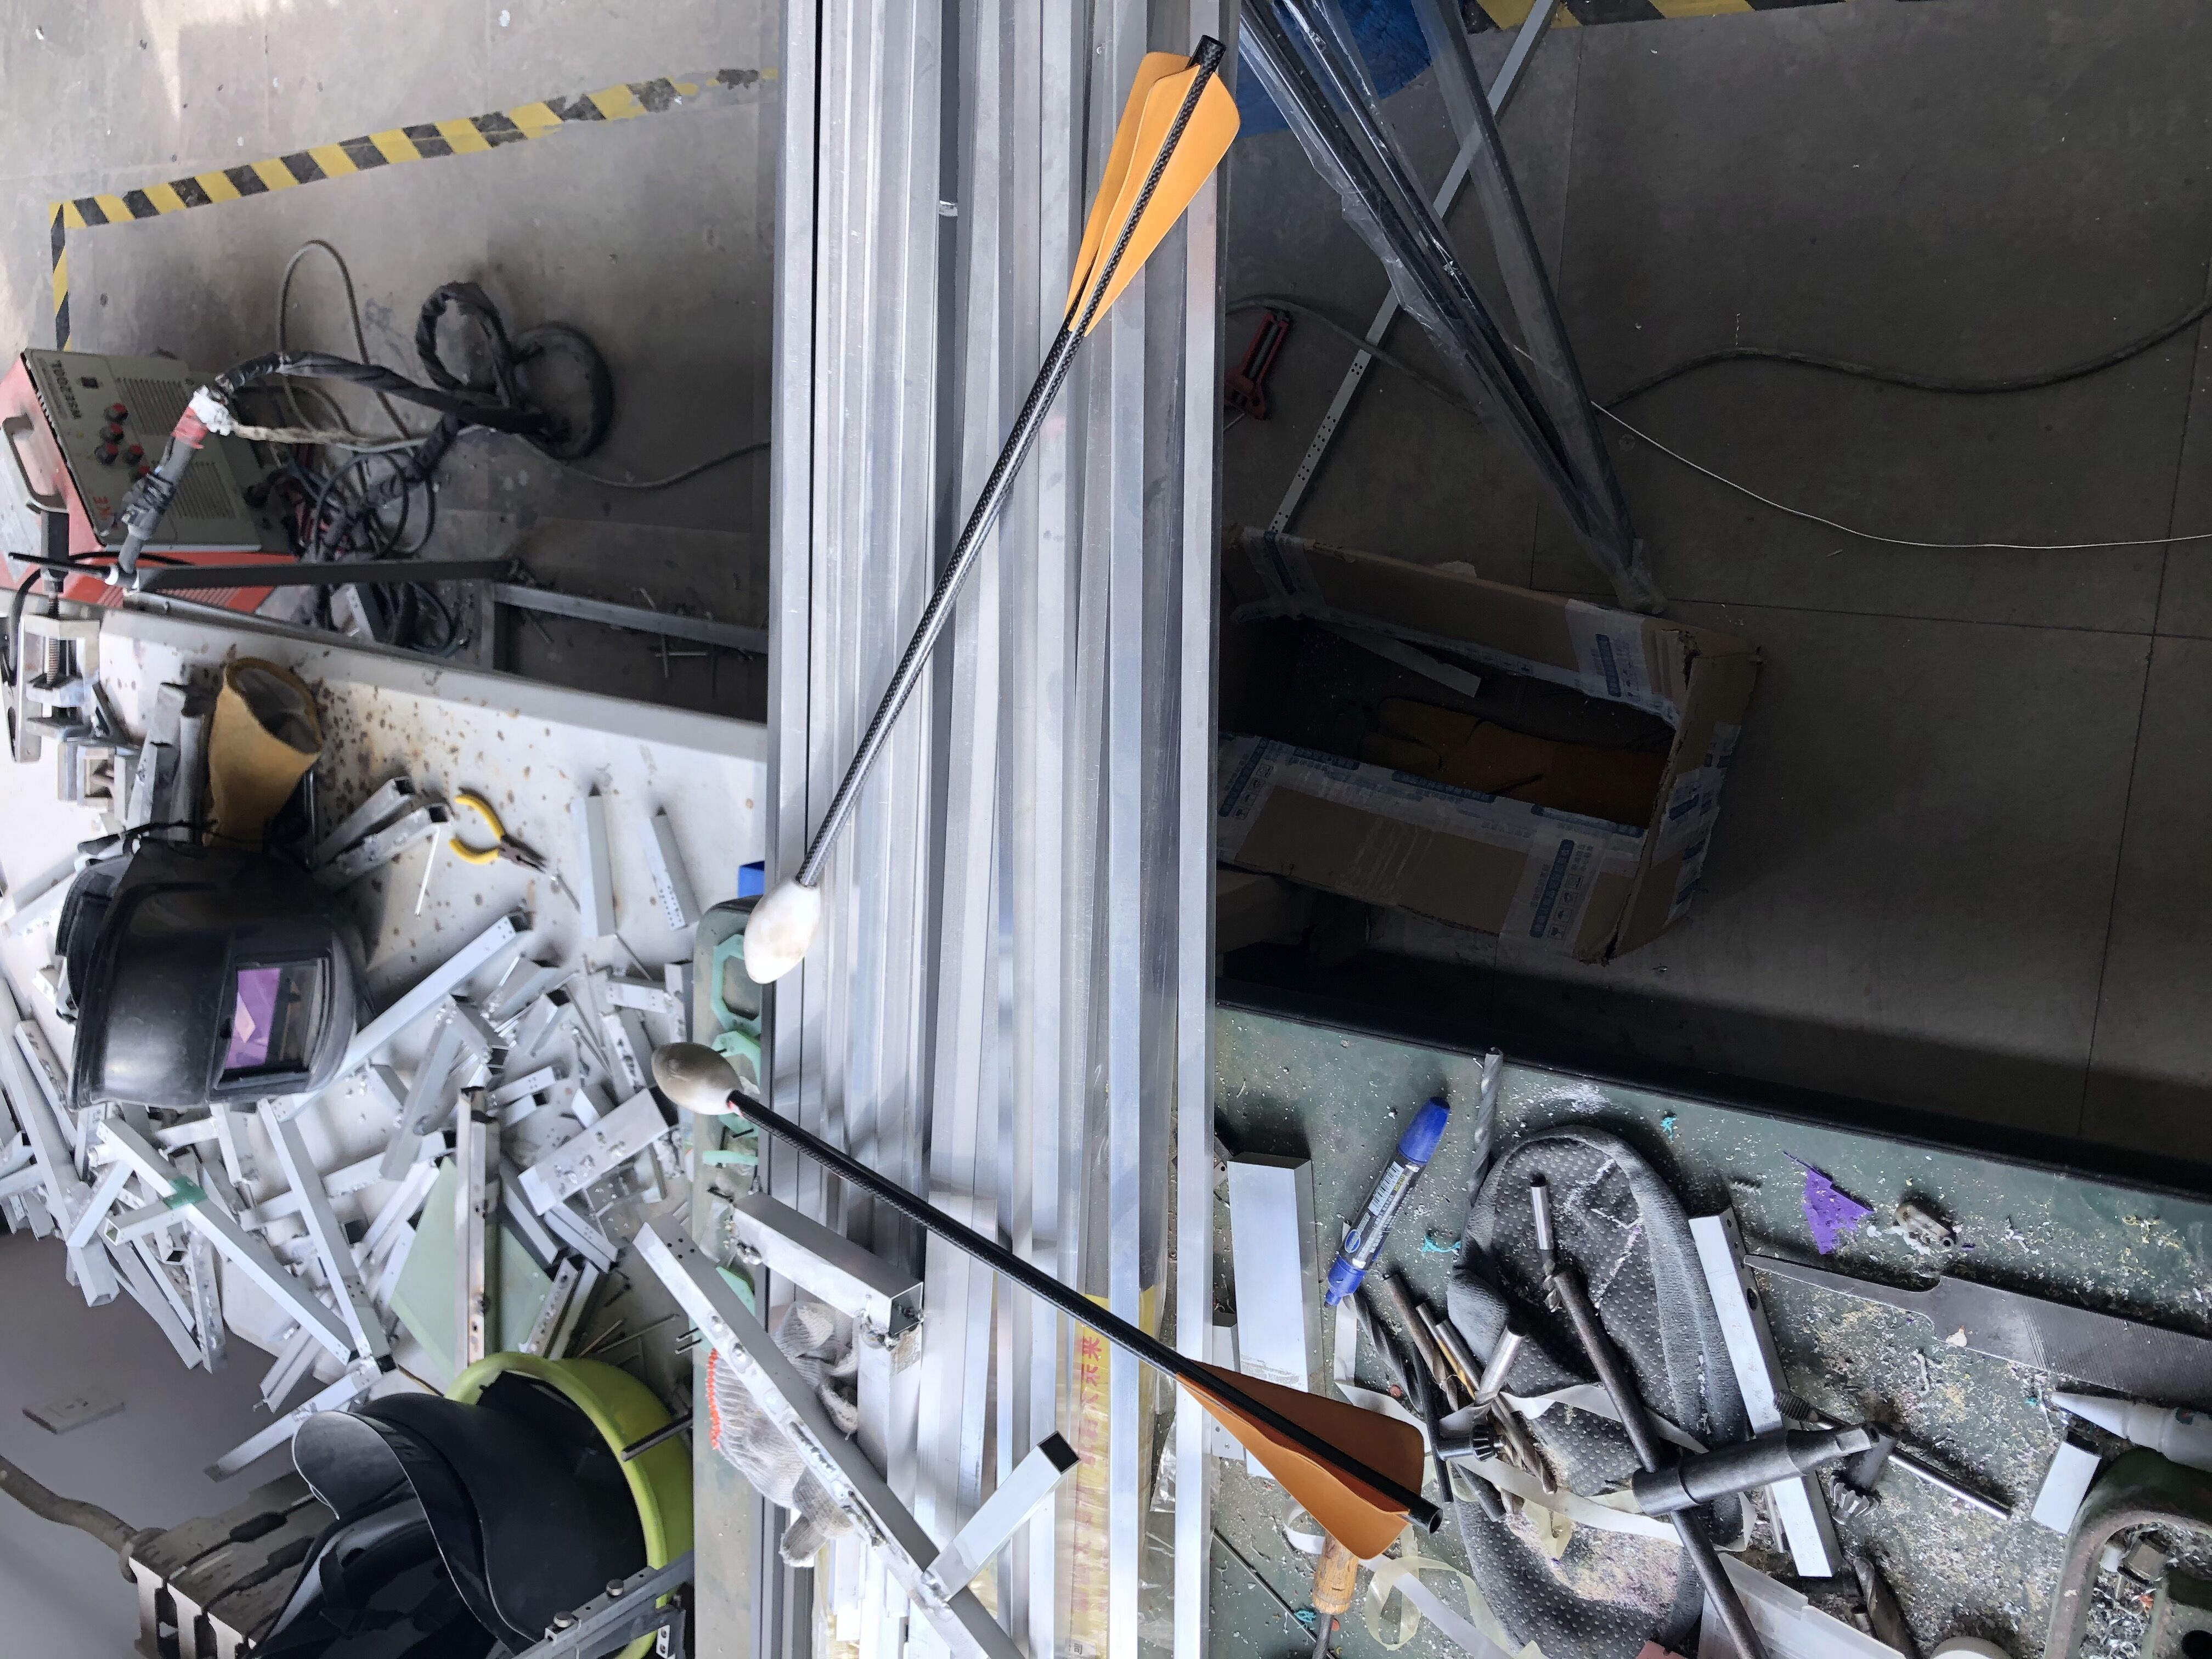arrow: (742, 35, 1244, 990), (646, 1042, 1442, 1563)
arrowFront: (742, 882, 822, 992), (646, 1040, 744, 1114)
